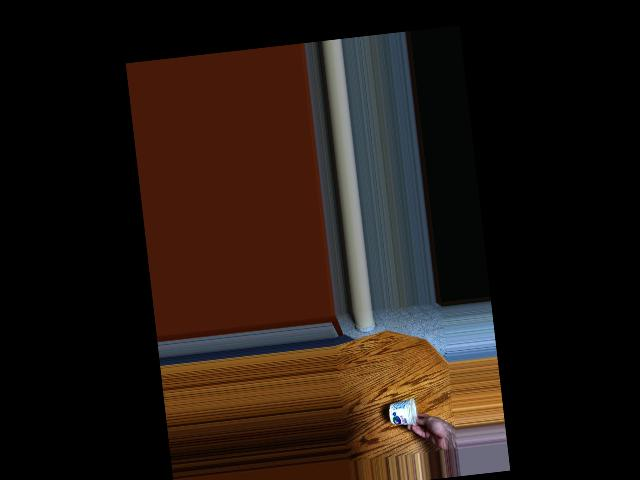cotage: (389, 394, 419, 429)
